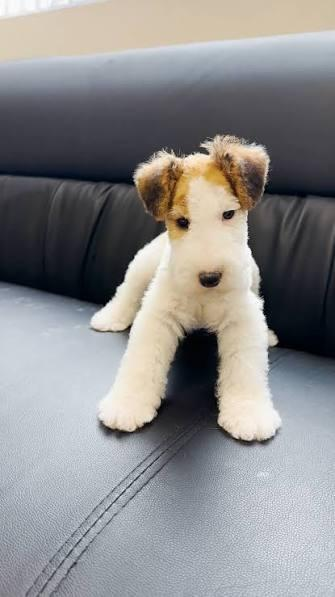puppy-dog: (90, 135, 282, 443)
